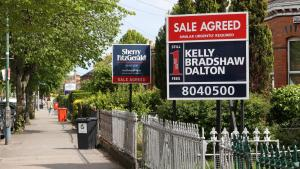property sign: (163, 6, 256, 102), (99, 38, 158, 91)
